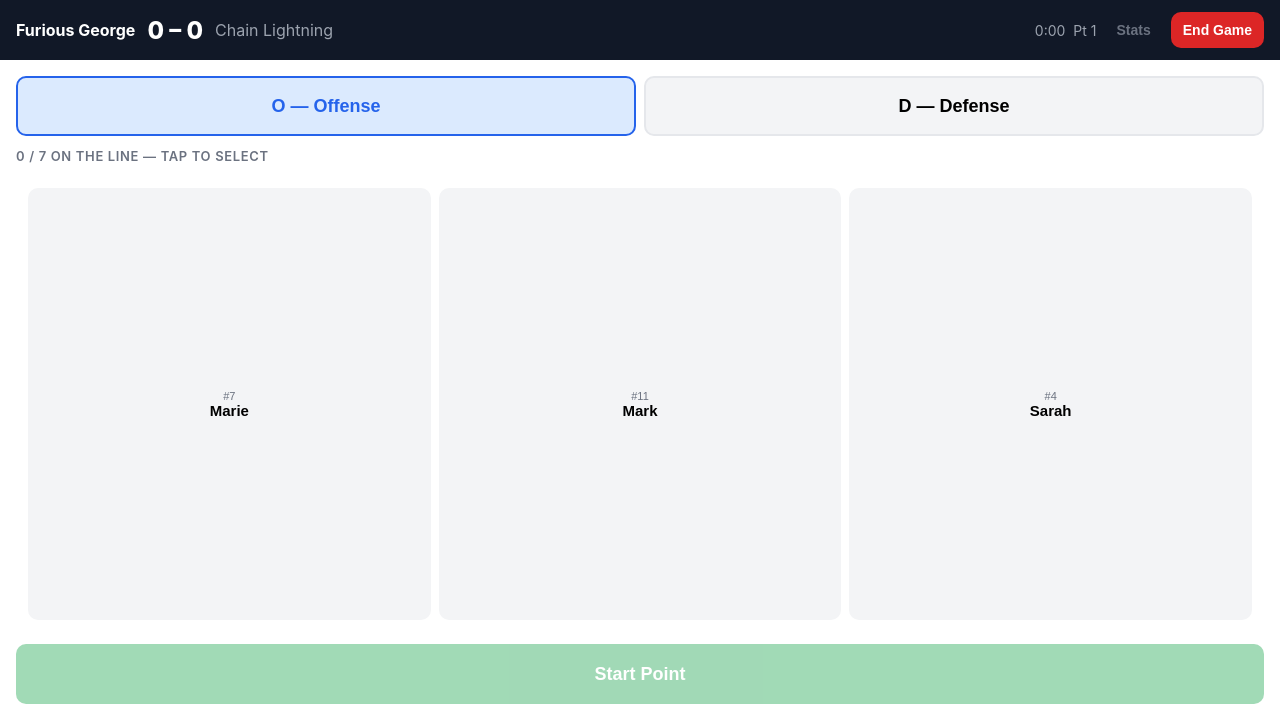
Test case: GamePage — playing phase › transitions to playing phase after Start Point
Click the button "#7 Marie": (229, 404) [28,188,431,620]
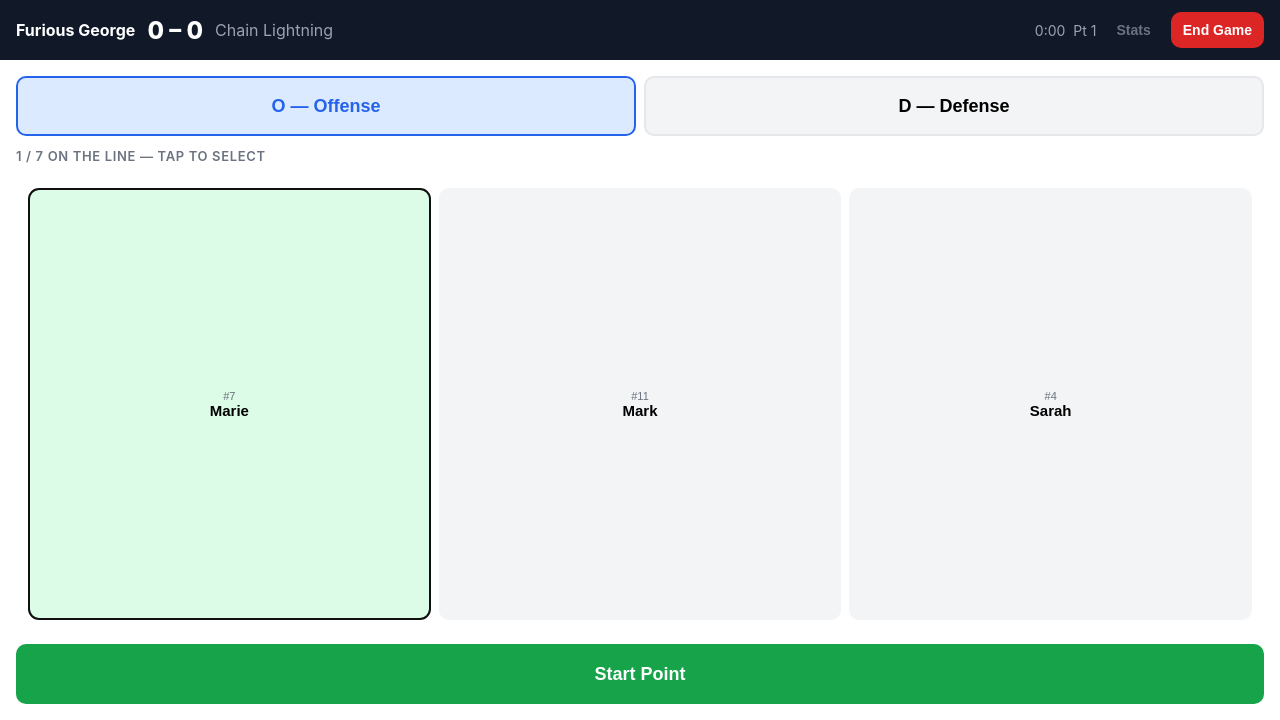
Click the button "Start Point": (640, 674) [16,644,1264,704]
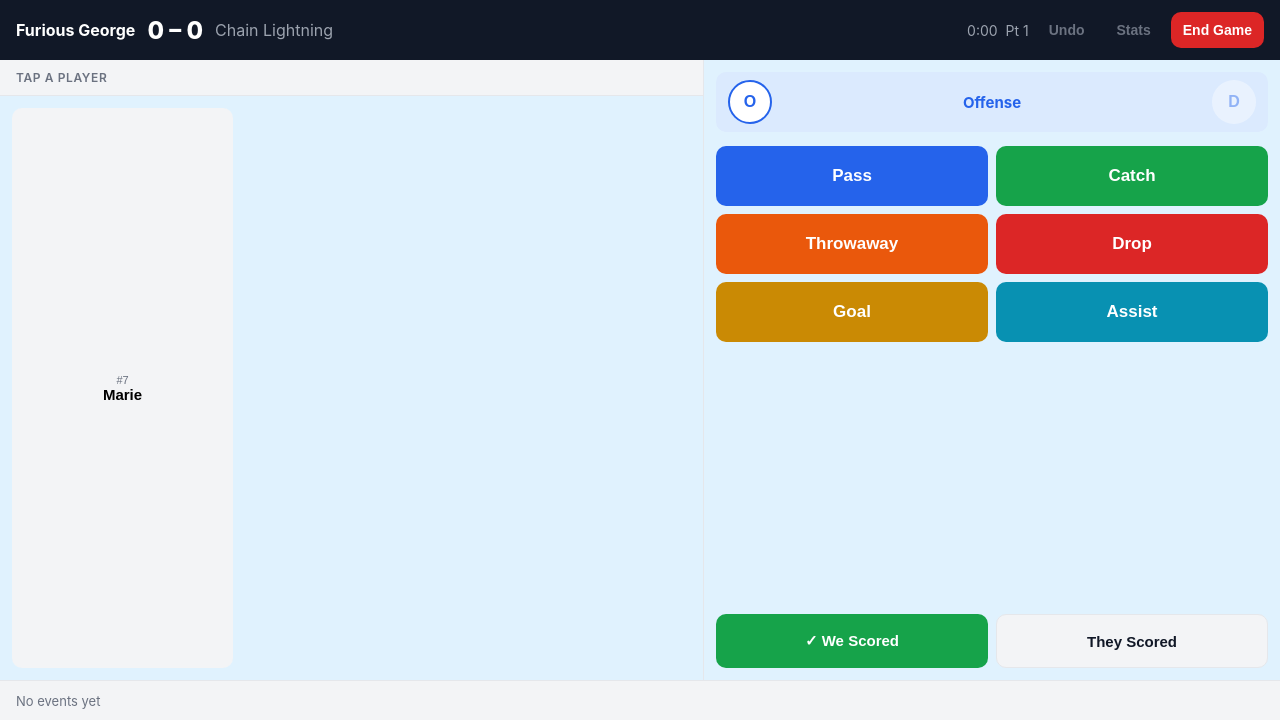
Expected: the button "Start Point" is gone
Expected: the button "Pass" is shown, [716,146,988,206]
